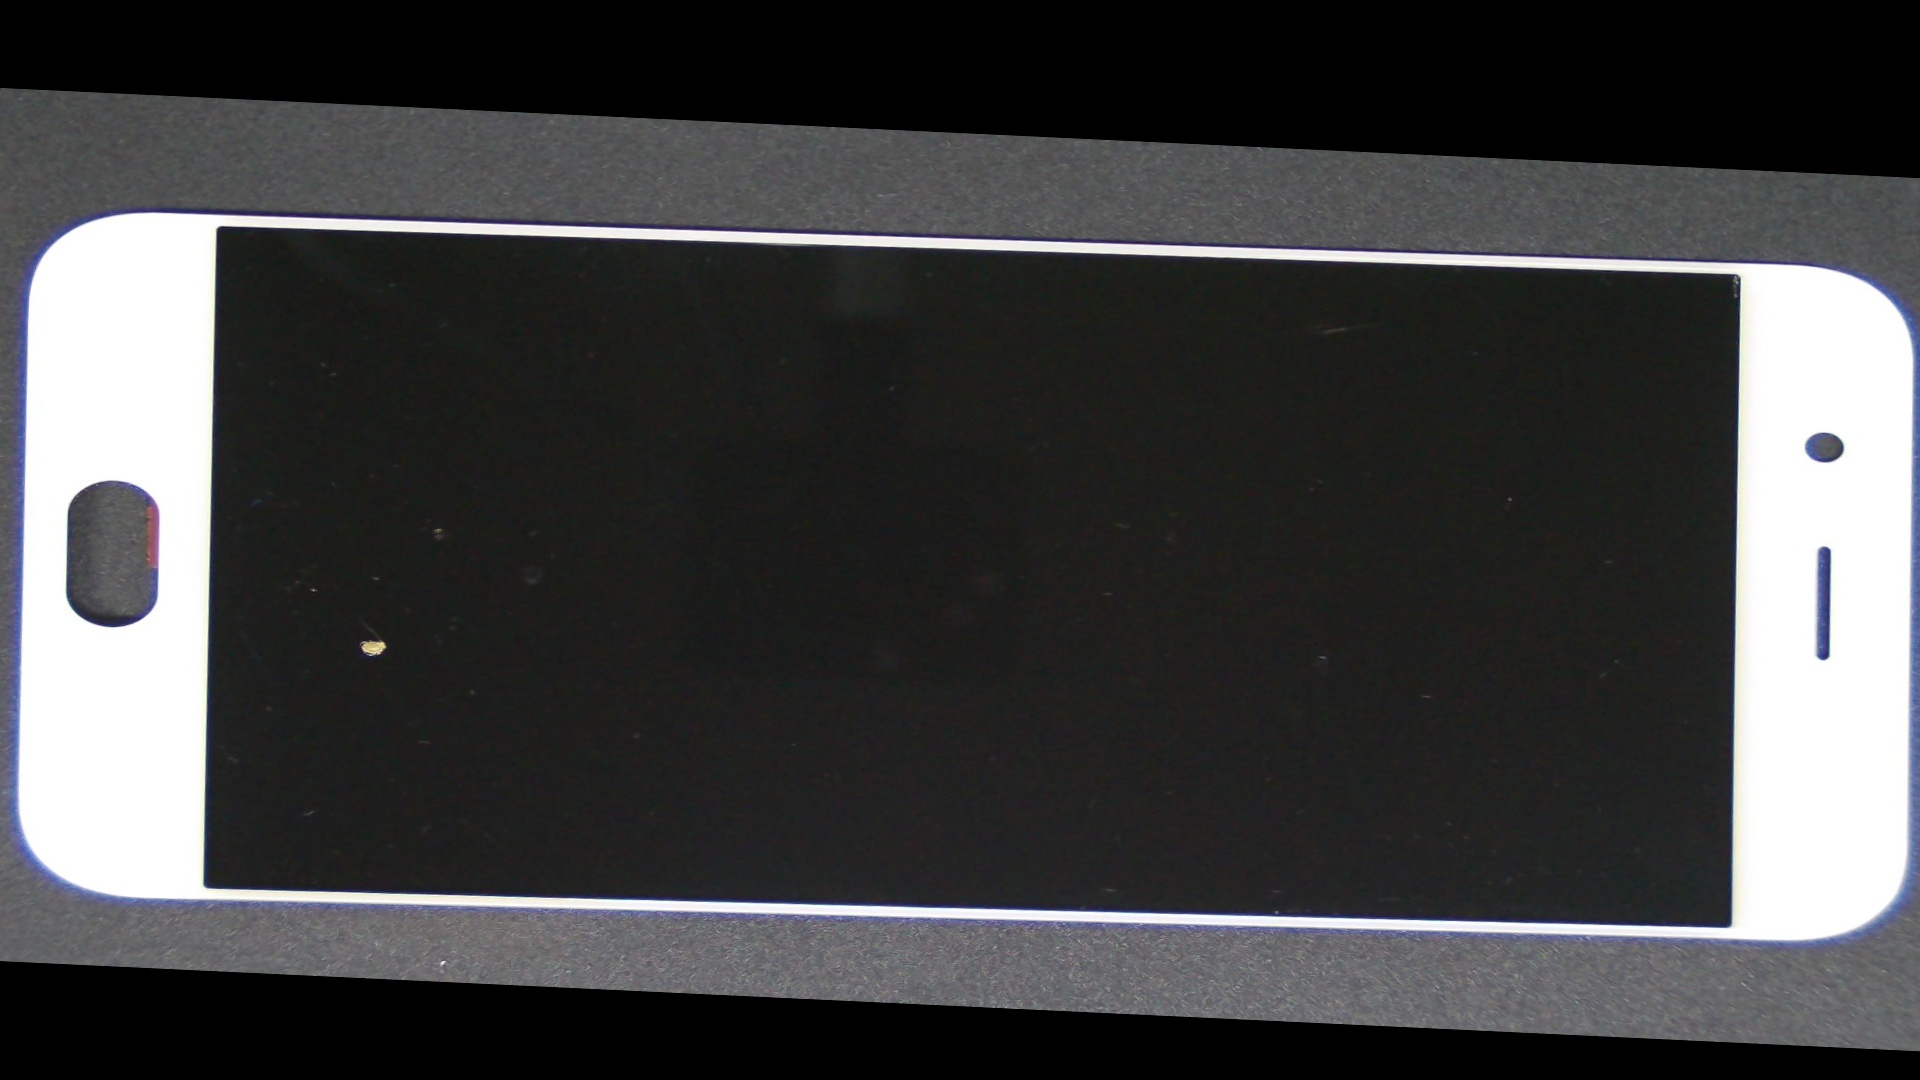oil: (141, 363, 580, 916)
